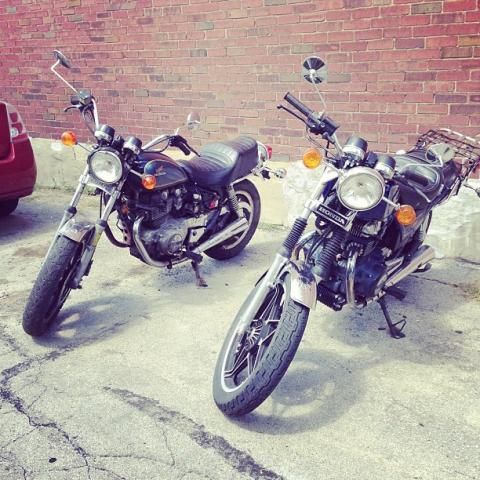car: (2, 100, 35, 223)
motorcycle: (213, 56, 479, 419), (23, 49, 287, 337)
